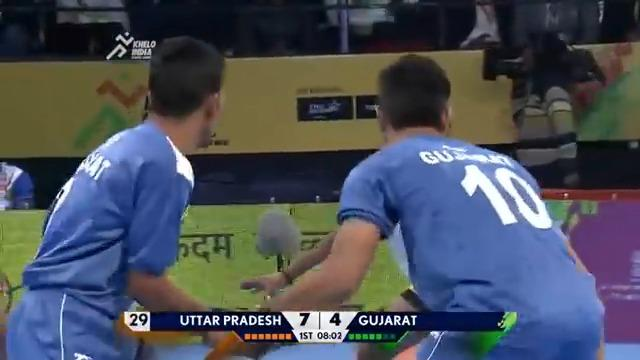Player: (231, 52, 606, 358), (3, 34, 248, 358)
